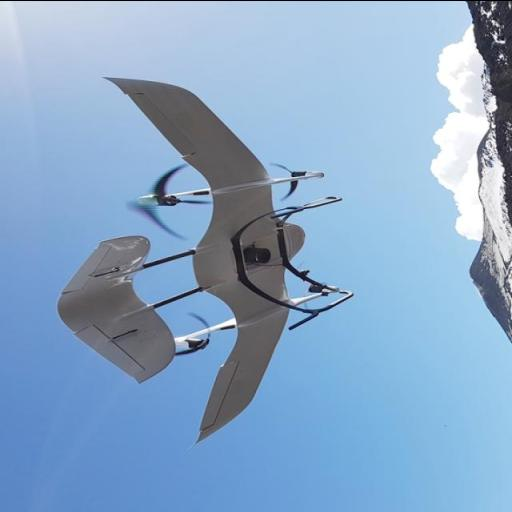uav: (48, 52, 367, 468)
